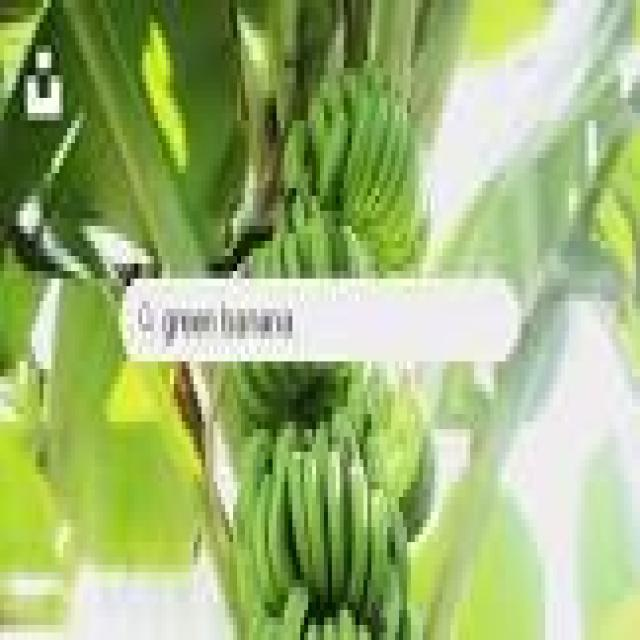banana: (269, 430, 296, 594), (253, 475, 280, 609), (348, 460, 371, 609), (305, 452, 327, 602), (364, 490, 391, 609), (289, 452, 312, 587), (328, 452, 347, 602), (281, 588, 312, 639)
